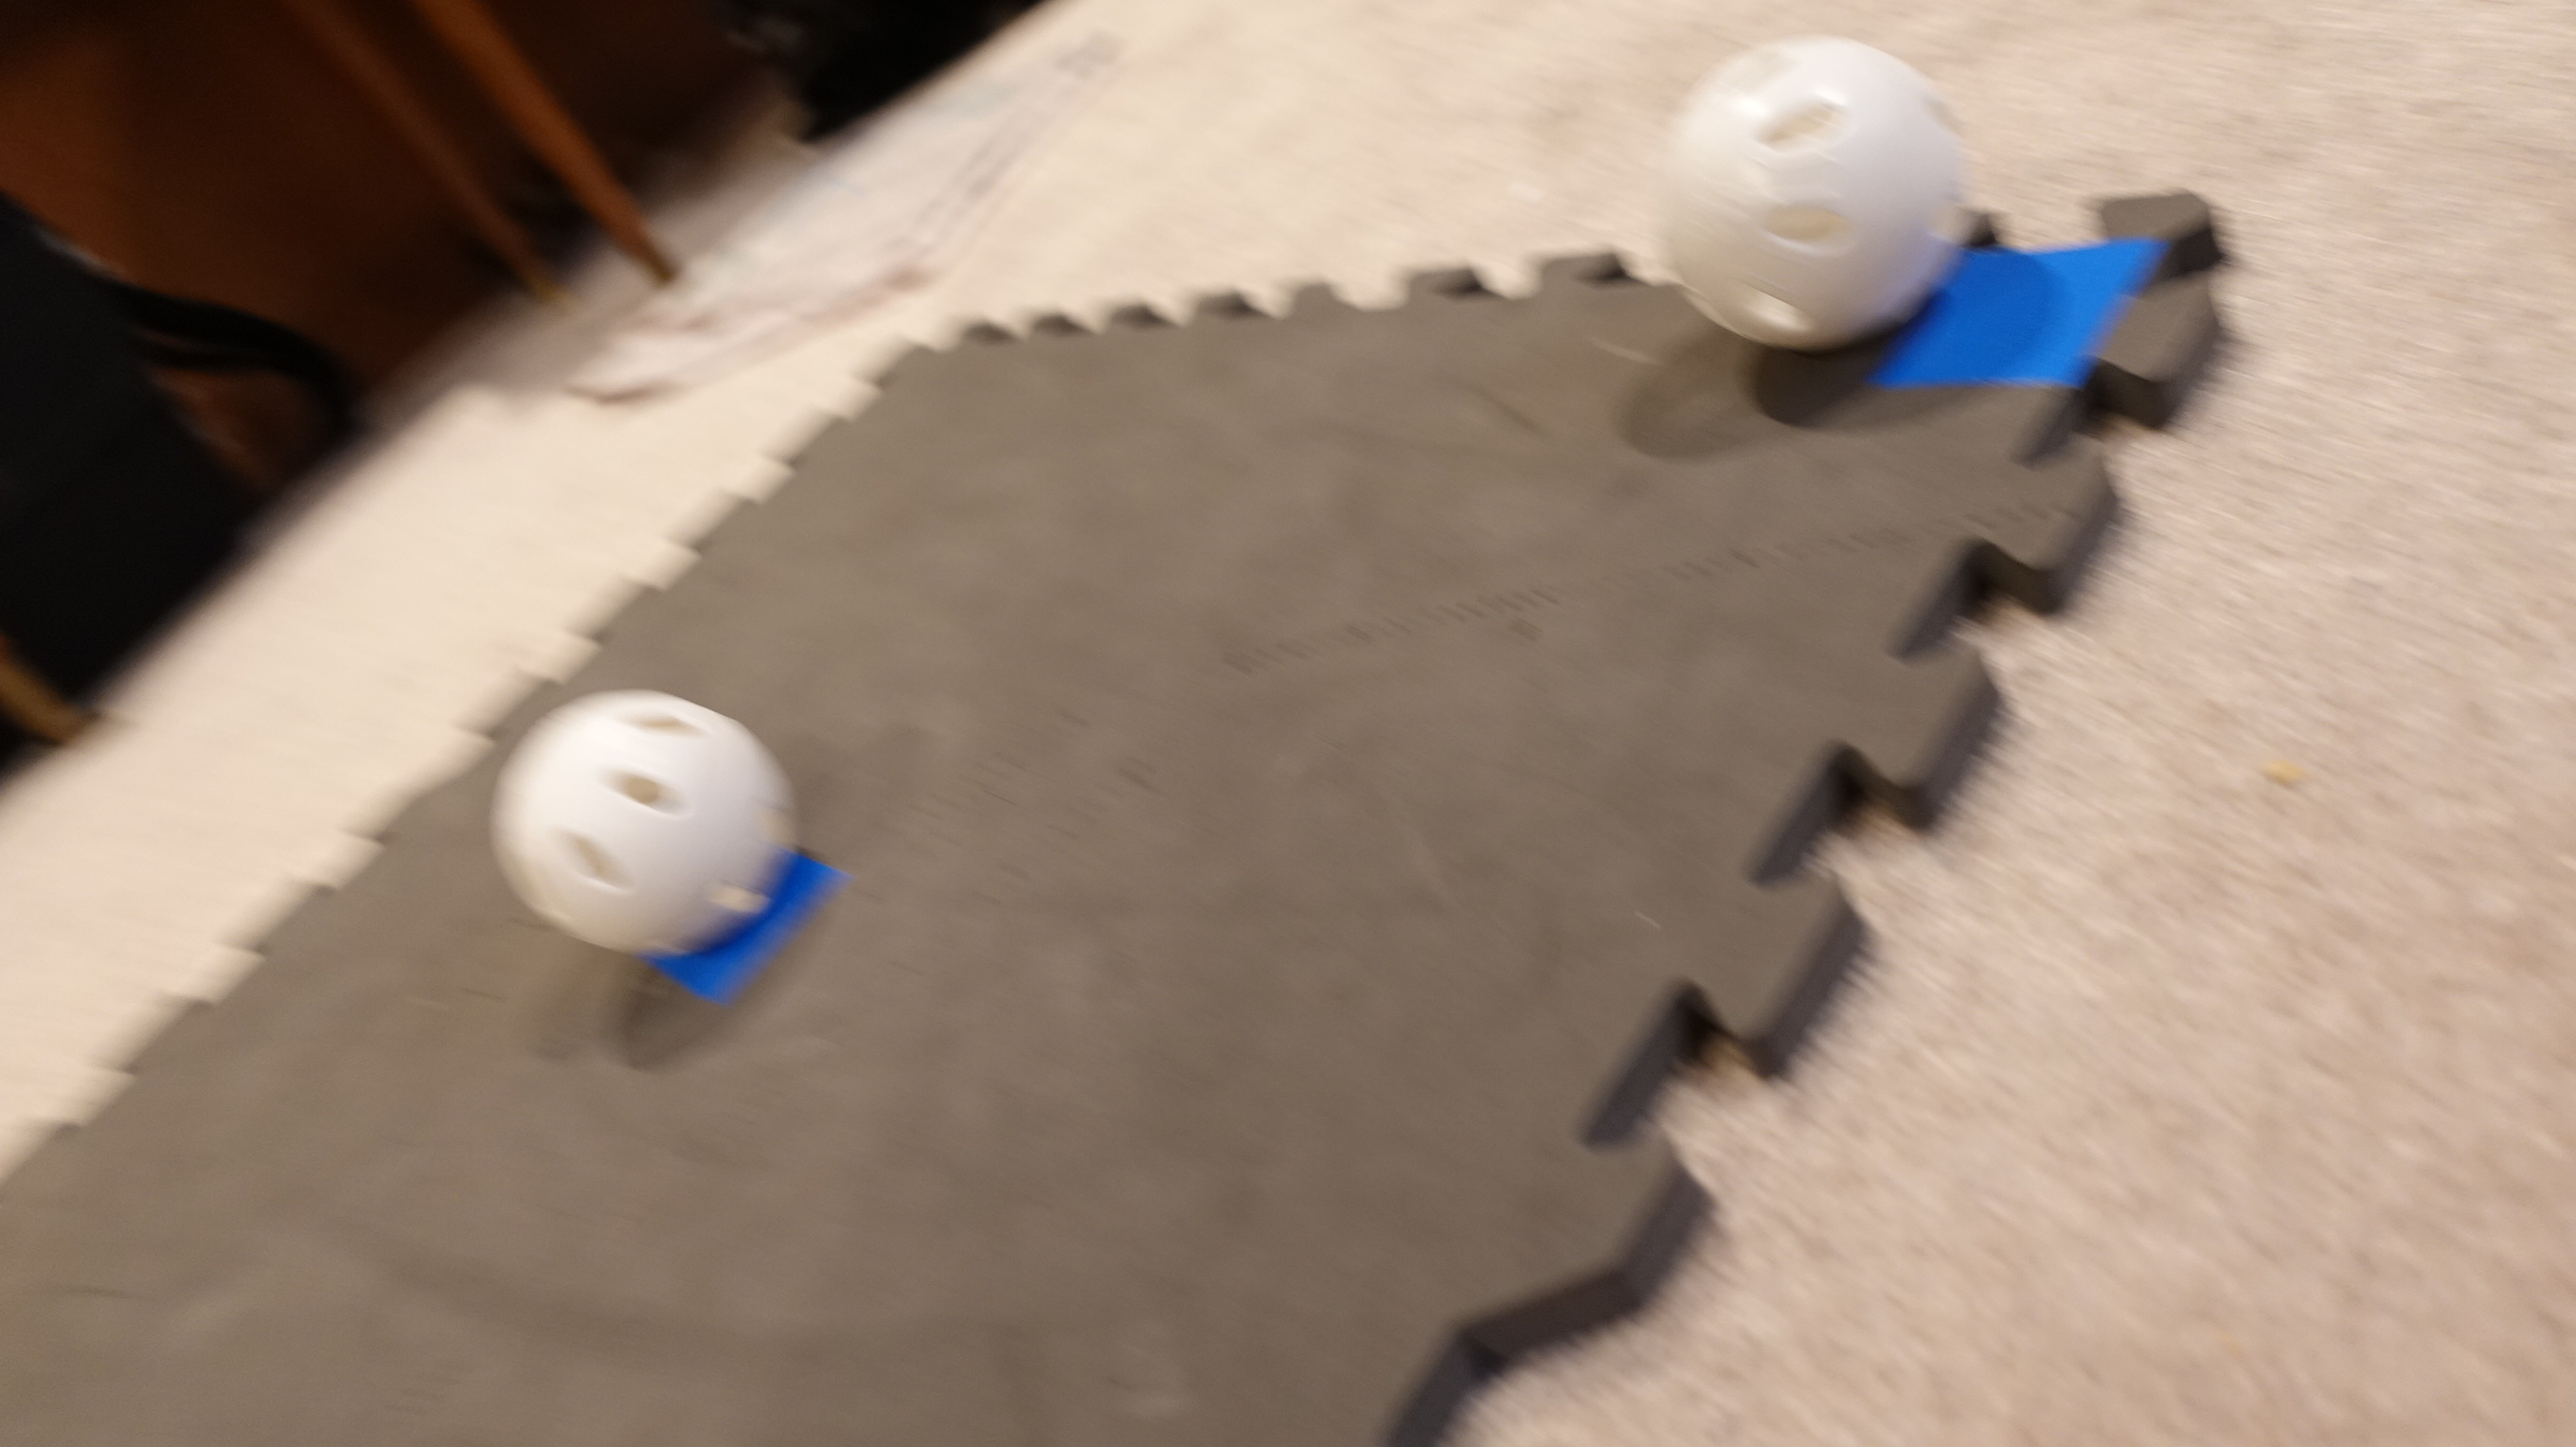silver: (1633, 34, 1990, 363), (483, 669, 807, 968)
